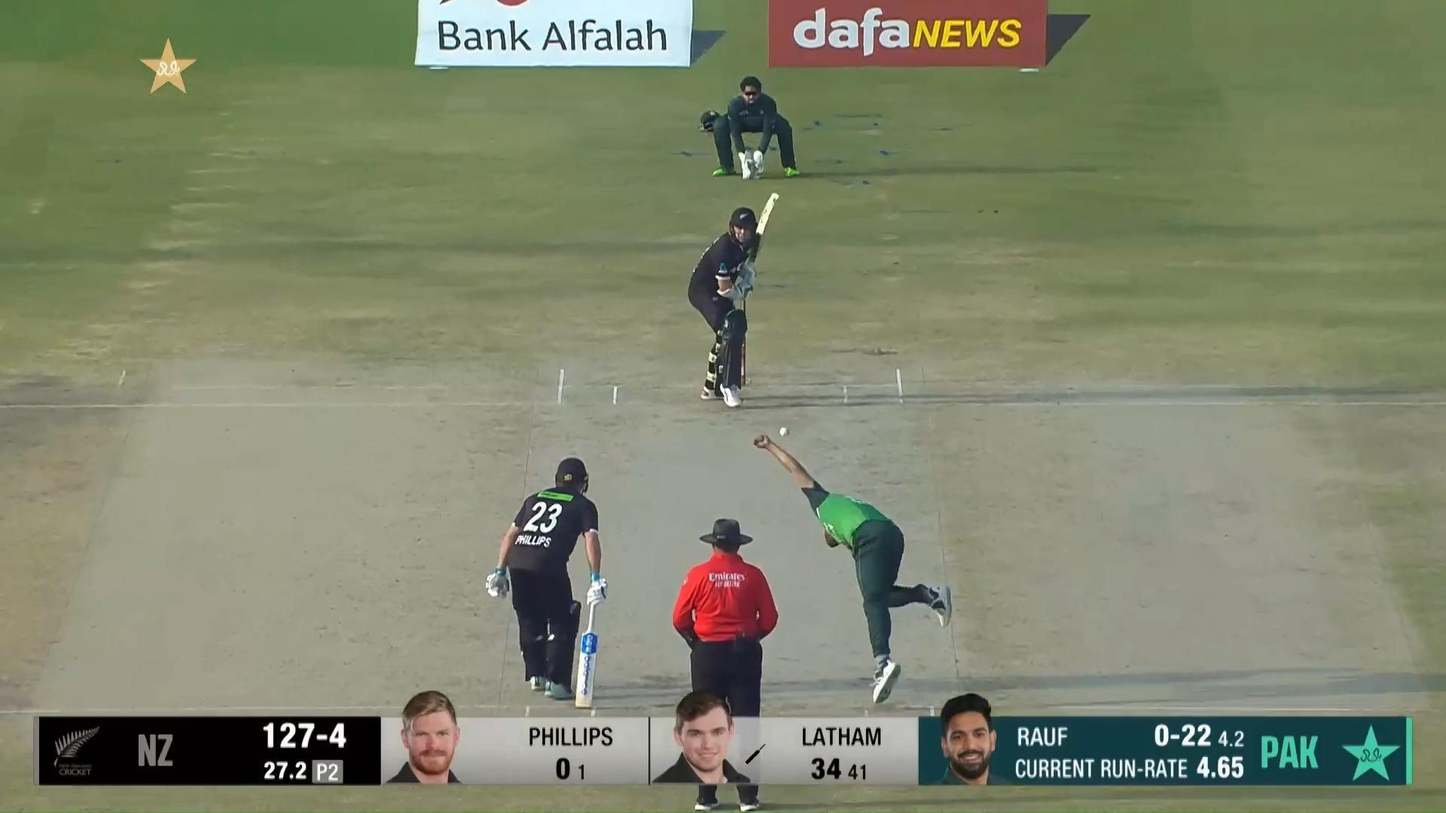BM 1: (687, 191, 781, 409)
BO: (753, 434, 953, 703)
